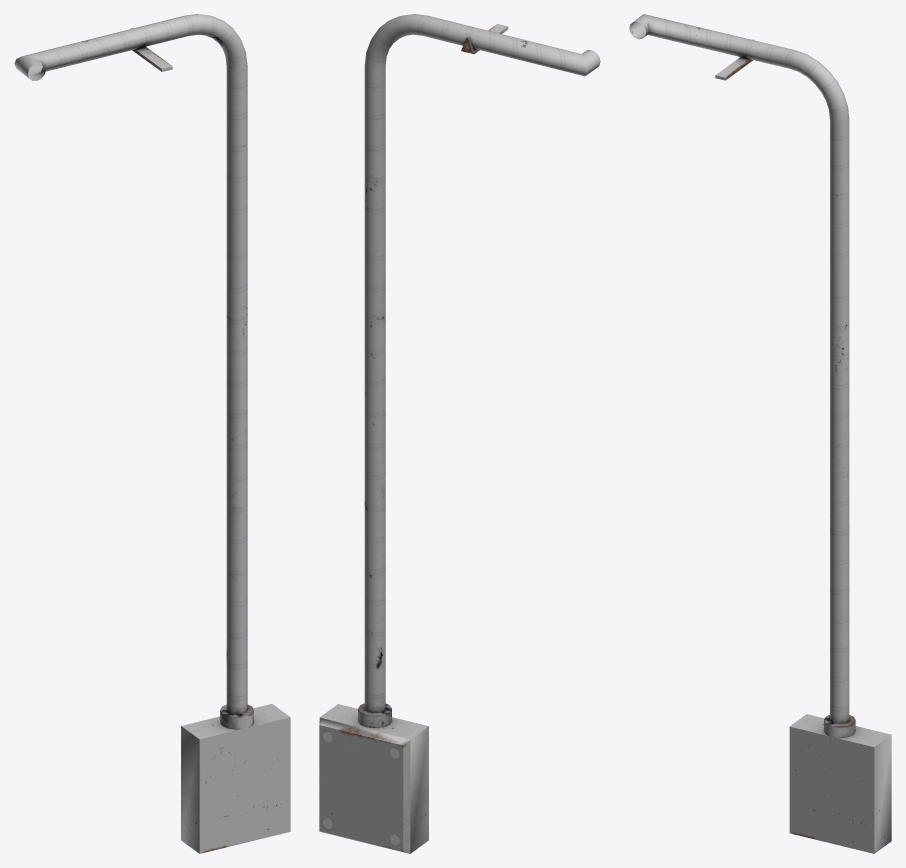
The model's file is Prop_ElectricBox_03.obj.
3 renders of one model, left to right at view 1: azimuth 30°, elevation 25°; view 2: azimuth 150°, elevation 25°; view 3: azimuth 330°, elevation 25°, orthographic. The views are drawn at different scales.
Visible parts, largest first — view 1: Prop_ElectricBox_03_0; view 2: Prop_ElectricBox_03_0; view 3: Prop_ElectricBox_03_0.
Boxes of the visible parts, x1,y1,x2,y2 form: Prop_ElectricBox_03_0: [14, 14, 290, 853]; Prop_ElectricBox_03_0: [319, 14, 600, 853]; Prop_ElectricBox_03_0: [629, 14, 891, 853].
Bounding box in the file's own units: 0.7807 × 2.36 × 0.2211.
Materials: 1 (1 with a texture image).
